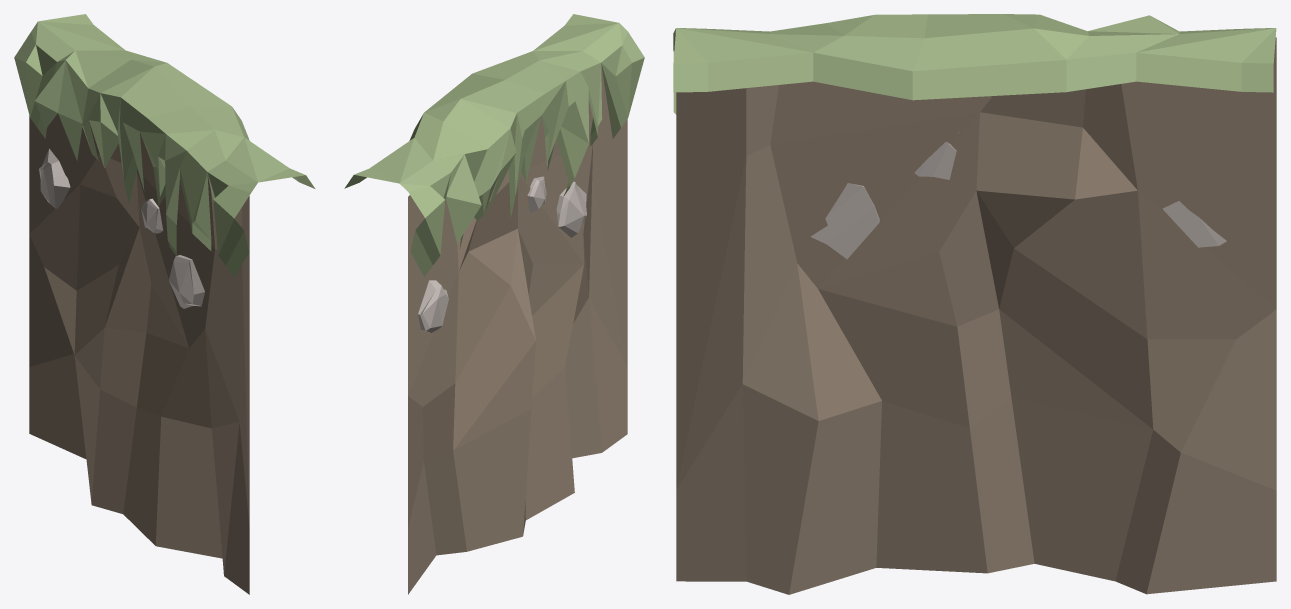
File: ER_Terrain_1x1_Grass_001_B1.fbx
3 renders of one model, left to right at view 1: azimuth 30°, elevation 25°; view 2: azimuth 150°, elevation 25°; view 3: azimuth 270°, elevation 25°, orthographic. The views are drawn at different scales.
Parts seen in each view (by area): view 1: ER_Terrain_1x1_Grass_001_B1; view 2: ER_Terrain_1x1_Grass_001_B1; view 3: ER_Terrain_1x1_Grass_001_B1.
Part boxes in pixels (<box>): ER_Terrain_1x1_Grass_001_B1: <box>14,14,315,594</box>; ER_Terrain_1x1_Grass_001_B1: <box>344,14,644,594</box>; ER_Terrain_1x1_Grass_001_B1: <box>673,14,1276,594</box>.
Bounding box in the file's own units: 0.2967 × 1.06 × 1.
